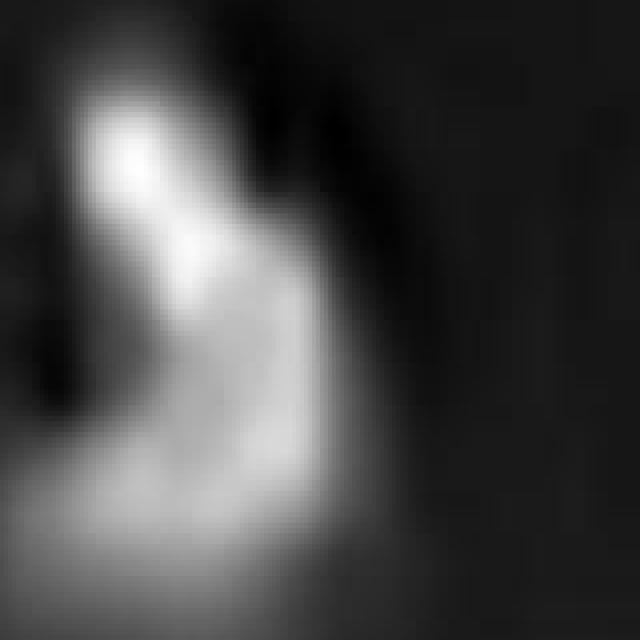person: (29, 43, 393, 640)
